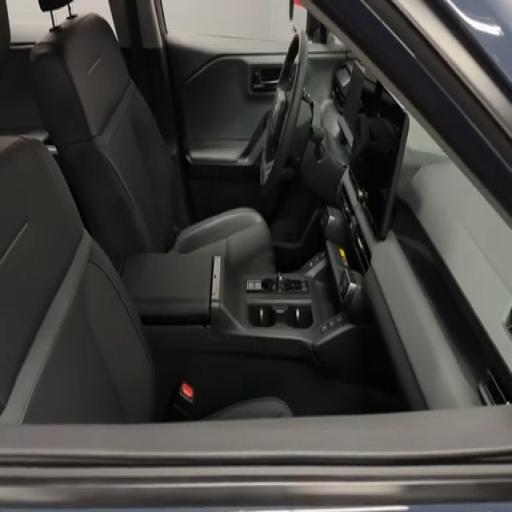door: (161, 0, 292, 221)
window: (162, 0, 291, 41), (7, 0, 51, 44)
windshield: (444, 0, 511, 85)
